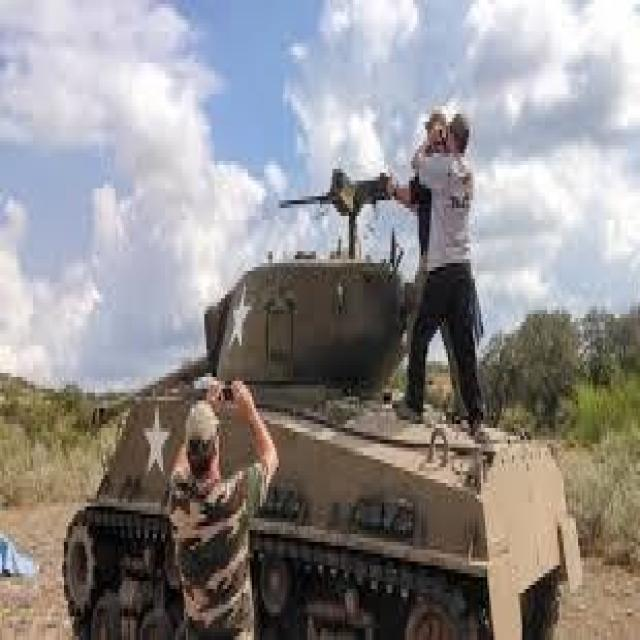Tanks: (59, 291, 581, 632)
